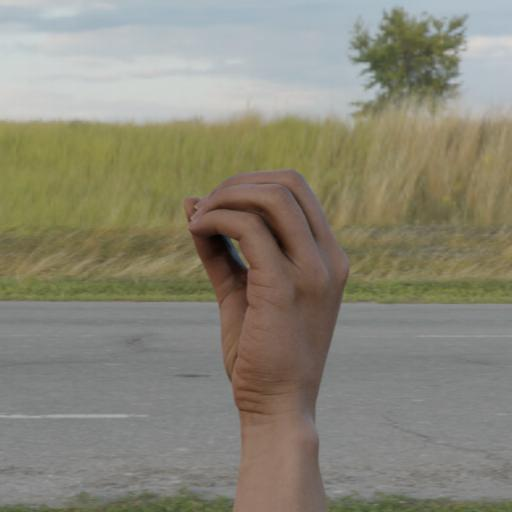O: (182, 166, 357, 422)
